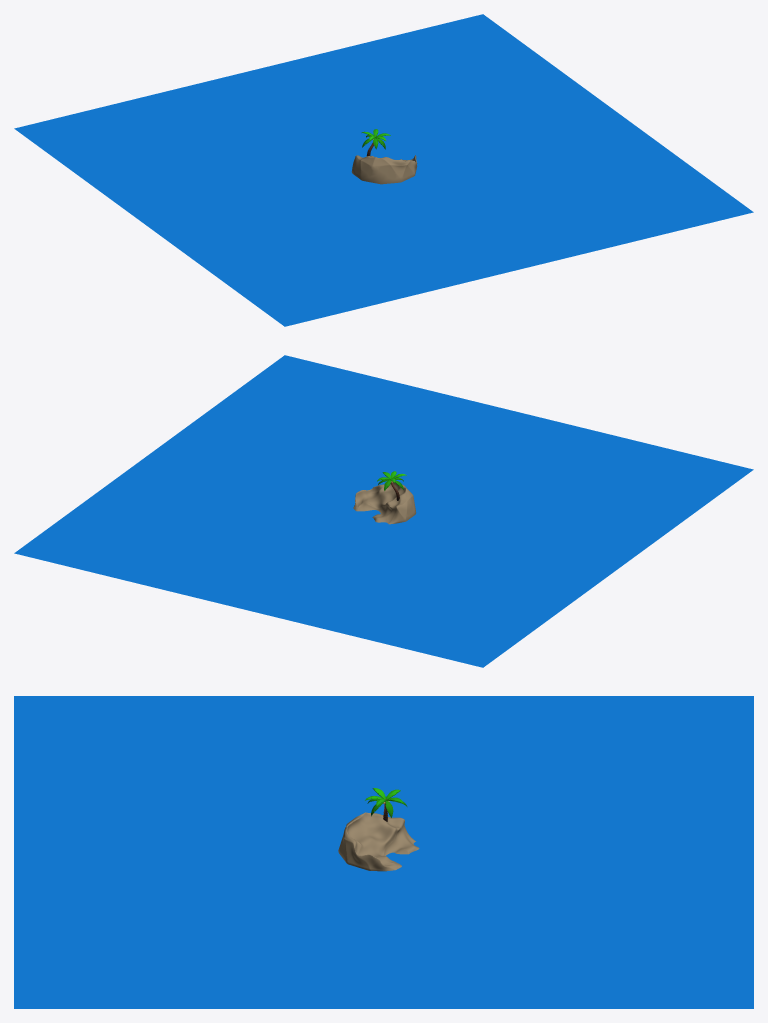
3 views of the same model, one above another, from view 1: azimuth 30°, elevation 25°; view 2: azimuth 150°, elevation 25°; view 3: azimuth 270°, elevation 25° (orthographic). The views are drawn at different scales.
Parts seen in each view (by area): view 1: Plane, Icosphere; view 2: Plane, Icosphere; view 3: Plane, Icosphere.
Part boxes in pixels (x1,y1,x2,y2): Plane: (14, 14, 753, 326); Icosphere: (351, 155, 417, 184); Plane: (14, 355, 753, 667); Icosphere: (353, 482, 416, 524); Plane: (14, 696, 753, 1008); Icosphere: (338, 812, 419, 871).
Size of the model in its own units: 51.66 by 7.16 by 51.66.
6 materials, 4 textured.
